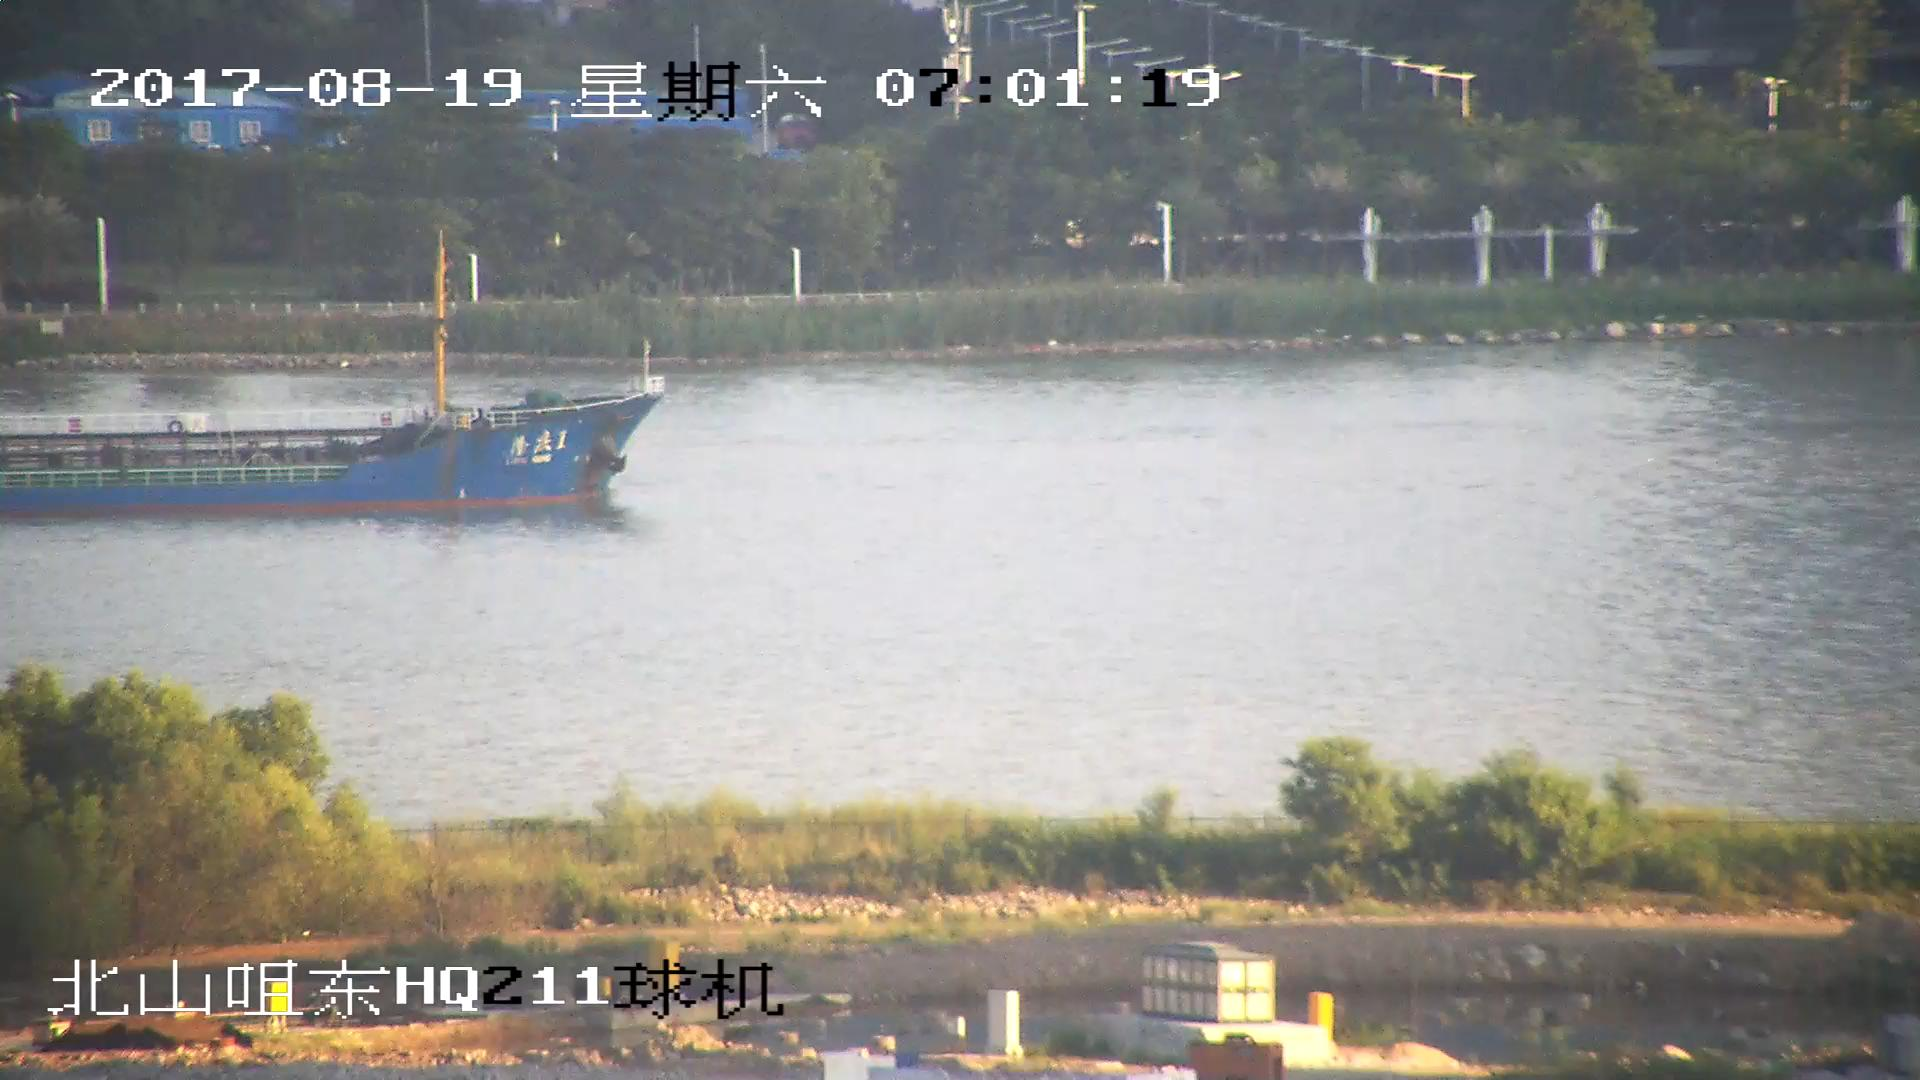general cargo ship: (1, 255, 655, 510)
